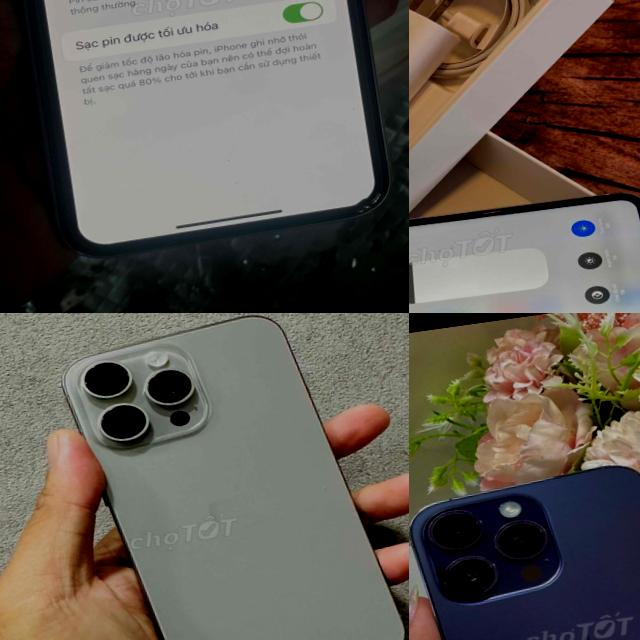gen_11: (409, 194, 640, 313)
gen_14: (409, 438, 640, 640)
gen_15: (44, 313, 409, 640)
gen_x_xs: (0, 0, 405, 260)
scratch: (67, 346, 204, 448)
